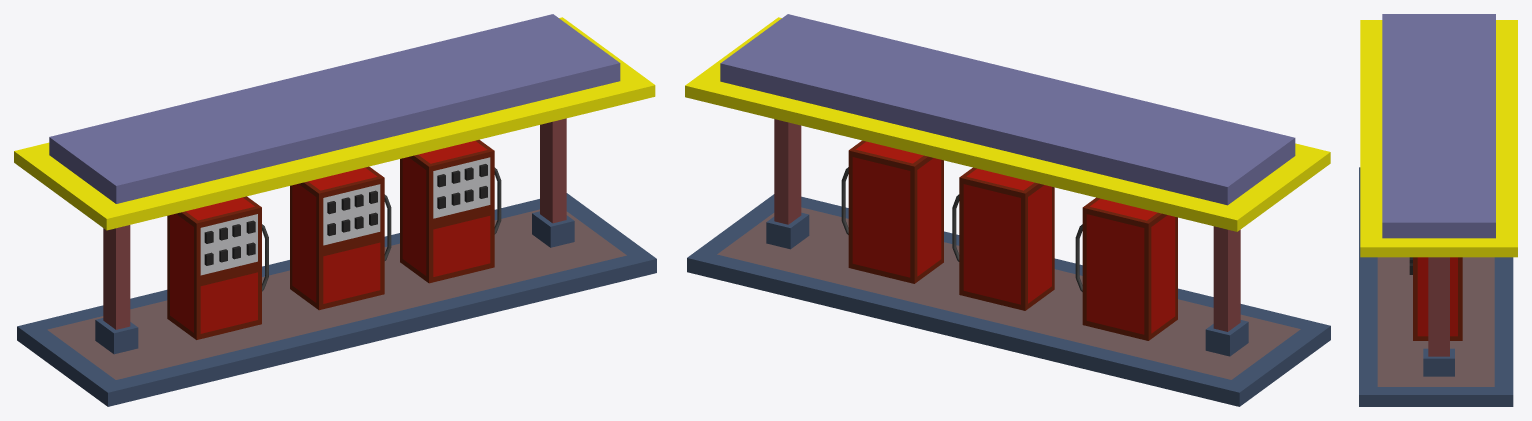
The model's file is gas station1.FBX.
The picture shows the model from 3 angles, left to right: view 1: azimuth 30°, elevation 25°; view 2: azimuth 150°, elevation 25°; view 3: azimuth 270°, elevation 25°; orthographic projection. The views are drawn at different scales.
Parts seen in each view (by area): view 1: gas station1; view 2: gas station1; view 3: gas station1.
Boxes of the visible parts, x1,y1,x2,y2 form: gas station1: (14, 14, 656, 406); gas station1: (685, 14, 1330, 406); gas station1: (1359, 14, 1517, 406).
Bounding box in the file's own units: 29 × 10.37 × 8.55.
